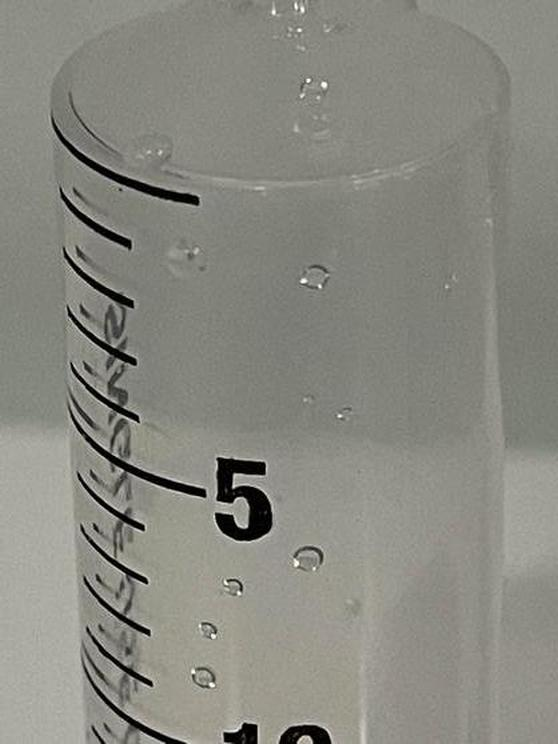wetsyringe: (48, 1, 511, 744)
